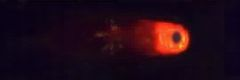keyhole: (169, 27, 184, 47)
